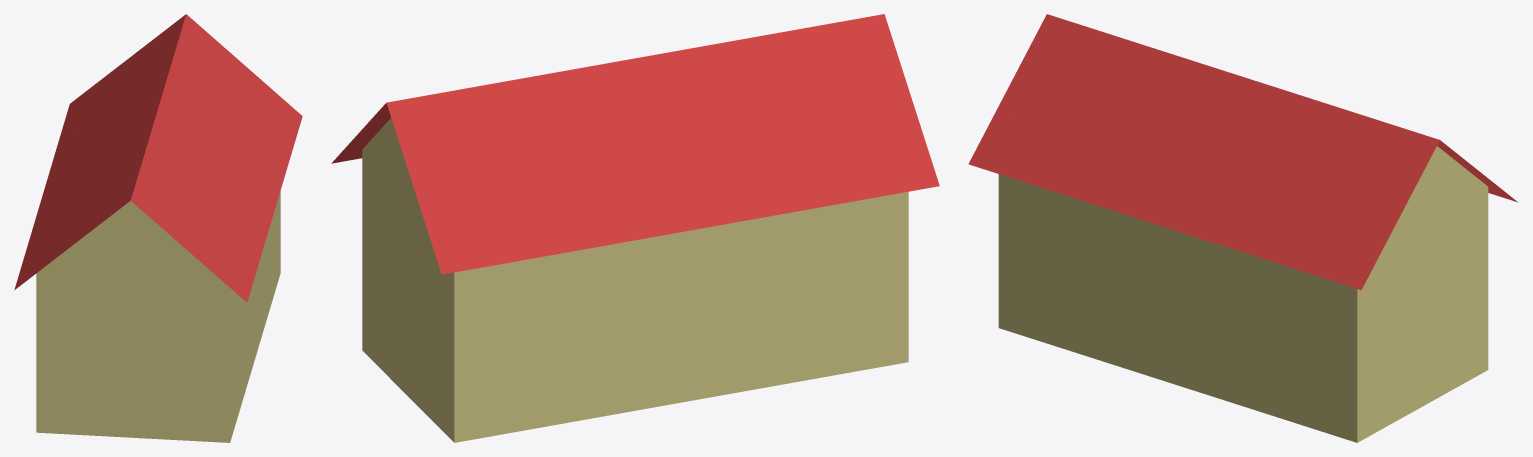
3 renders of one model, left to right at view 1: azimuth 30°, elevation 25°; view 2: azimuth 150°, elevation 25°; view 3: azimuth 270°, elevation 25°, orthographic. The views are drawn at different scales.
Size of the model in its own units: 23.2 by 25.26 by 13.78.
